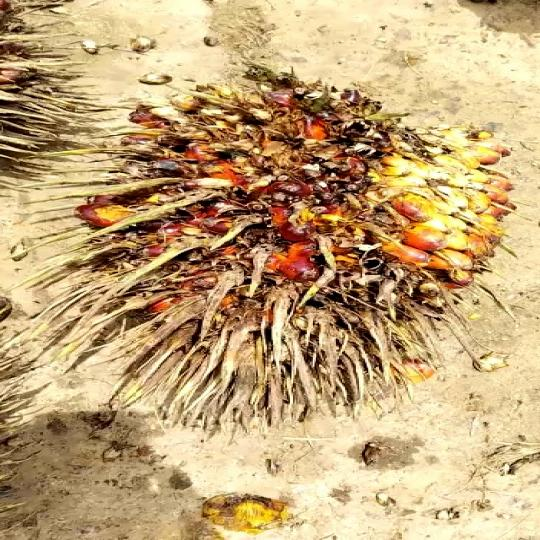terlalu masak: (1, 61, 495, 422)
